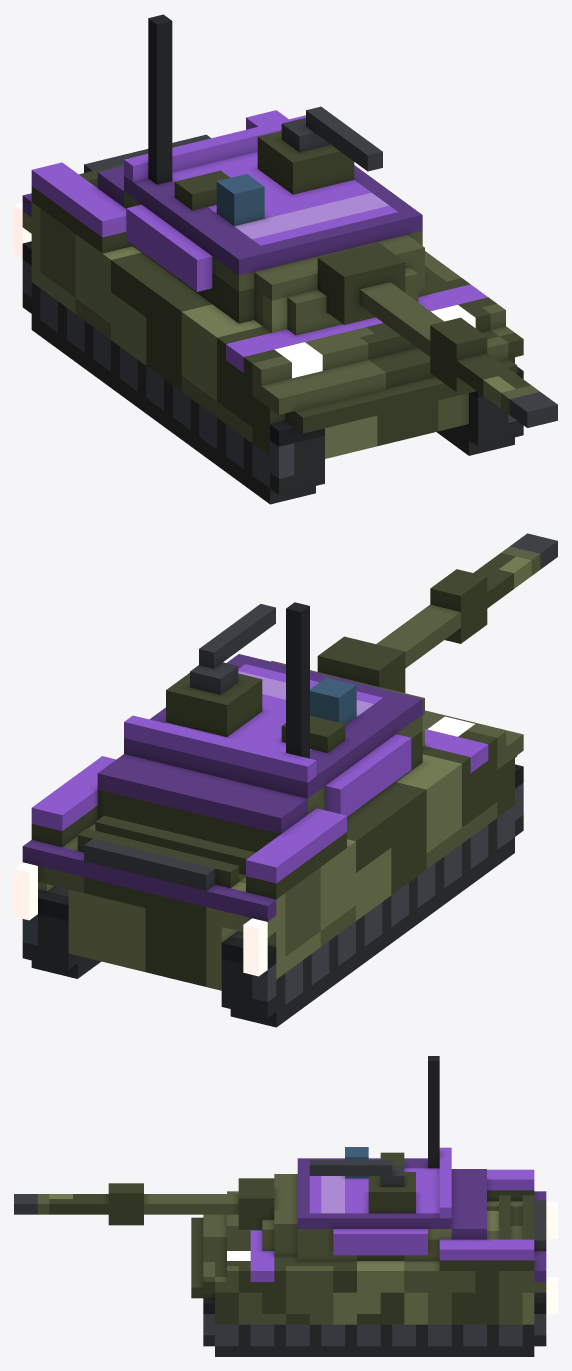
File: cm_tank_4.glb
The picture shows the model from 3 angles, top to bottom: view 1: azimuth 30°, elevation 25°; view 2: azimuth 150°, elevation 25°; view 3: azimuth 270°, elevation 25°; orthographic projection. The views are drawn at different scales.
Parts seen in each view (by area): view 1: cm_tank_4_body; view 2: cm_tank_4_body; view 3: cm_tank_4_body.
Part boxes in pixels (<box>): cm_tank_4_body: <box>14,14,557,504</box>; cm_tank_4_body: <box>14,533,557,1027</box>; cm_tank_4_body: <box>14,1056,557,1356</box>.
Size of the model in its own units: 1 by 1.38 by 2.88.
1 material, 1 textured.
